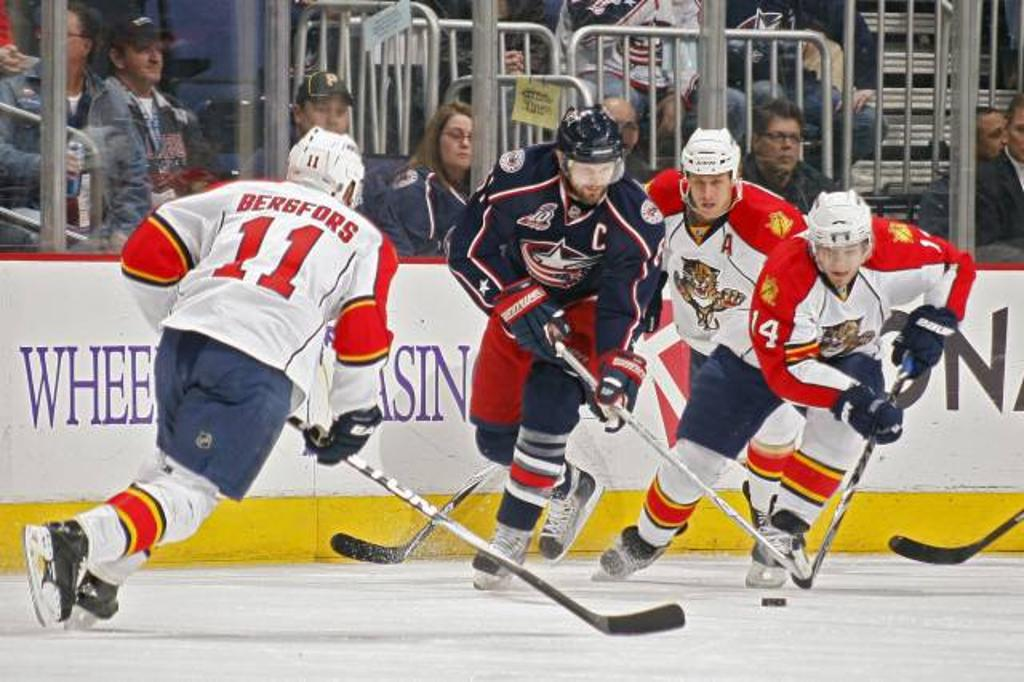face: (763, 121, 802, 173), (304, 98, 349, 143), (439, 117, 478, 168), (601, 101, 635, 158), (821, 244, 863, 288), (690, 172, 731, 217), (48, 13, 82, 64), (570, 163, 614, 201), (978, 113, 1009, 159), (127, 42, 163, 81), (1010, 109, 1024, 160)
